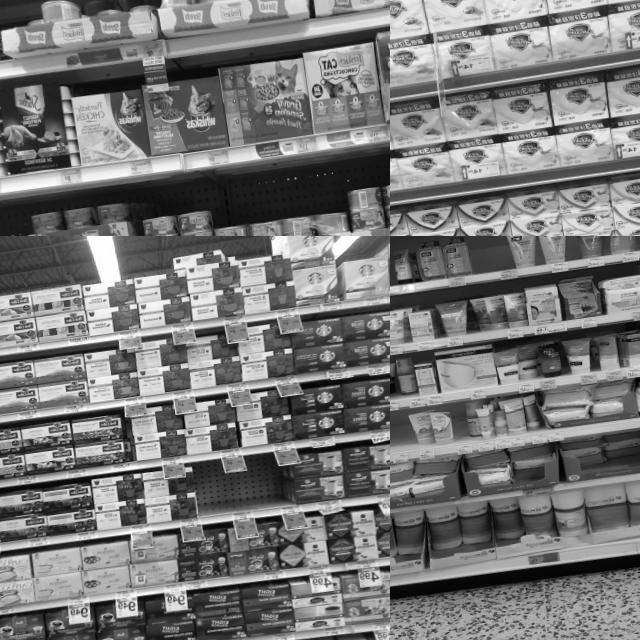empty: (194, 459, 254, 525), (250, 454, 292, 518), (470, 236, 511, 282), (390, 410, 414, 463), (450, 403, 470, 454), (390, 249, 396, 297)
